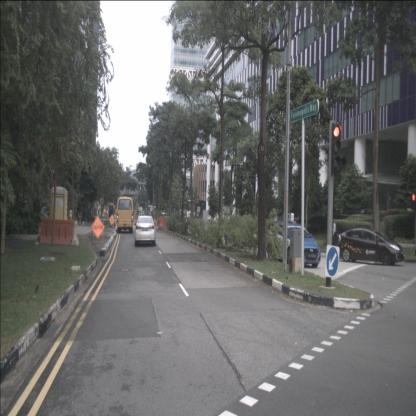barrier: (40, 218, 74, 245), (157, 219, 167, 228)
cone: (37, 223, 41, 244)
